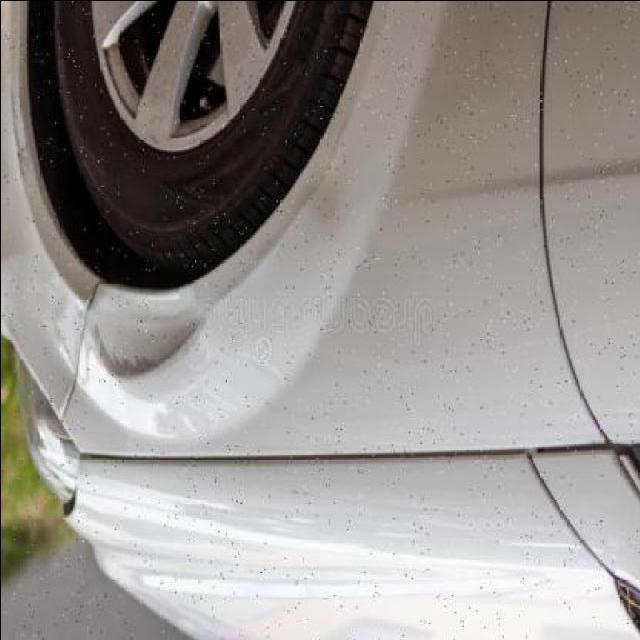fender-dent: (80, 124, 569, 463)
